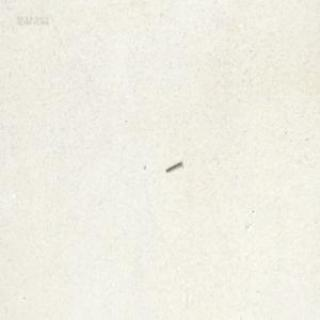Bolttrack_idkeyframe: (164, 156, 181, 169)
